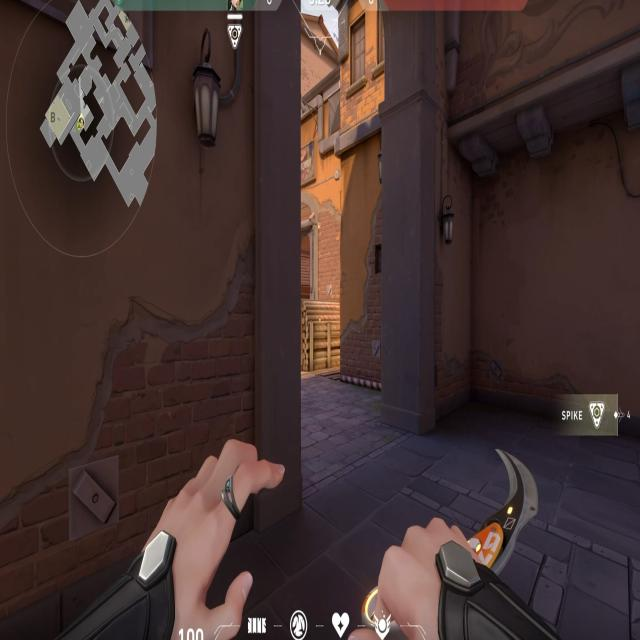B_Cubby: (300, 296, 343, 377)
